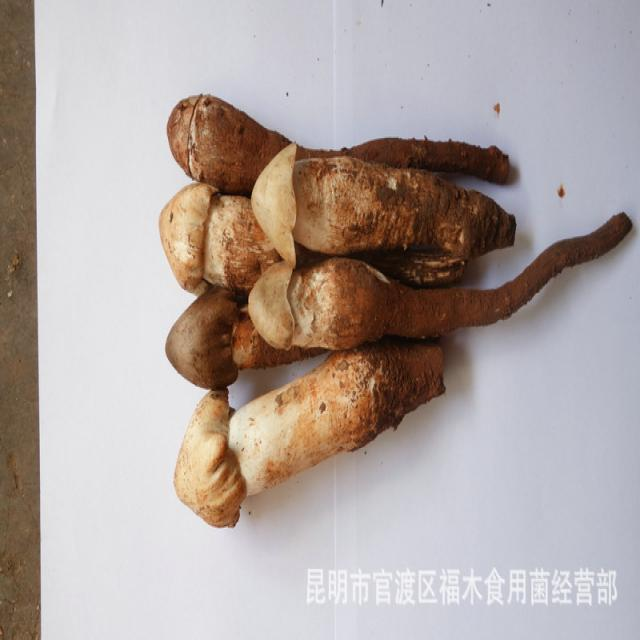Collybia albuminosa: (173, 355, 446, 528), (251, 144, 517, 261), (247, 262, 567, 351), (158, 182, 263, 291), (167, 93, 268, 194), (167, 294, 255, 388)
